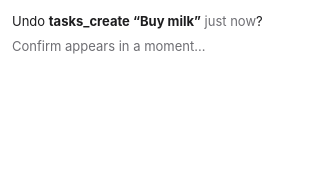
Test: /undo arm › shows the entry but no Confirm until 600ms; Enter/keys cannot undo; click undoes once
This screenshot has width=332, height=172.
Check: the text with test id "undo-target" reads "tasks_create “Buy milk”", box [49,13,201,29]
Press Enter
Wait 601 ms
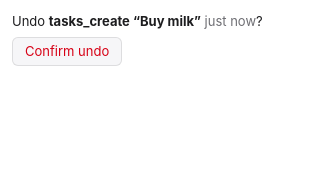
Click the button with test id "undo-confirm-cmd" at (67, 51), box [12,37,122,66]
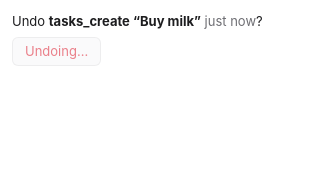
Click the button with test id "undo-confirm-cmd" at (57, 51), box [12,37,101,66]
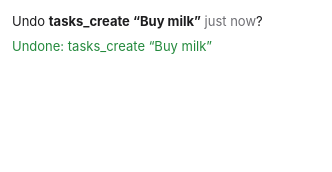
Check: the message "Undone: tasks_create “Buy milk”" is shown, box [12,38,212,54]
